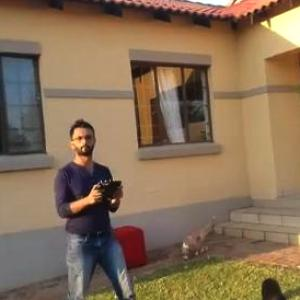follow: (46, 112, 143, 299)
null: (174, 212, 220, 263), (258, 275, 296, 299)
